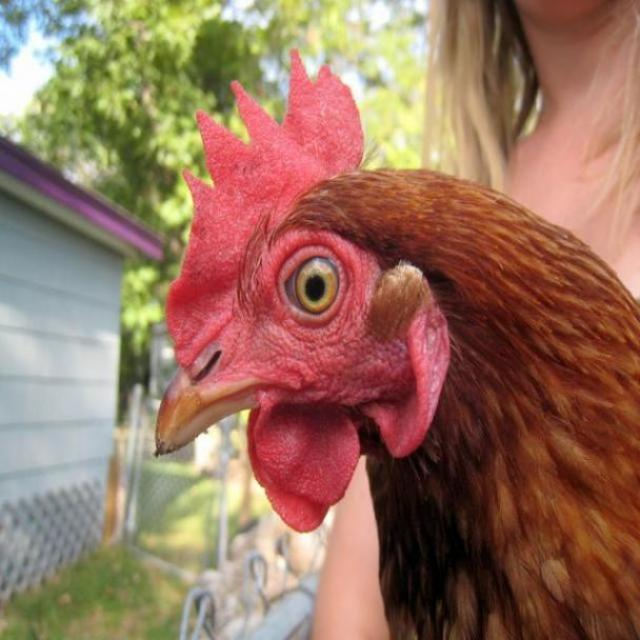Chicken: (133, 46, 608, 610)
